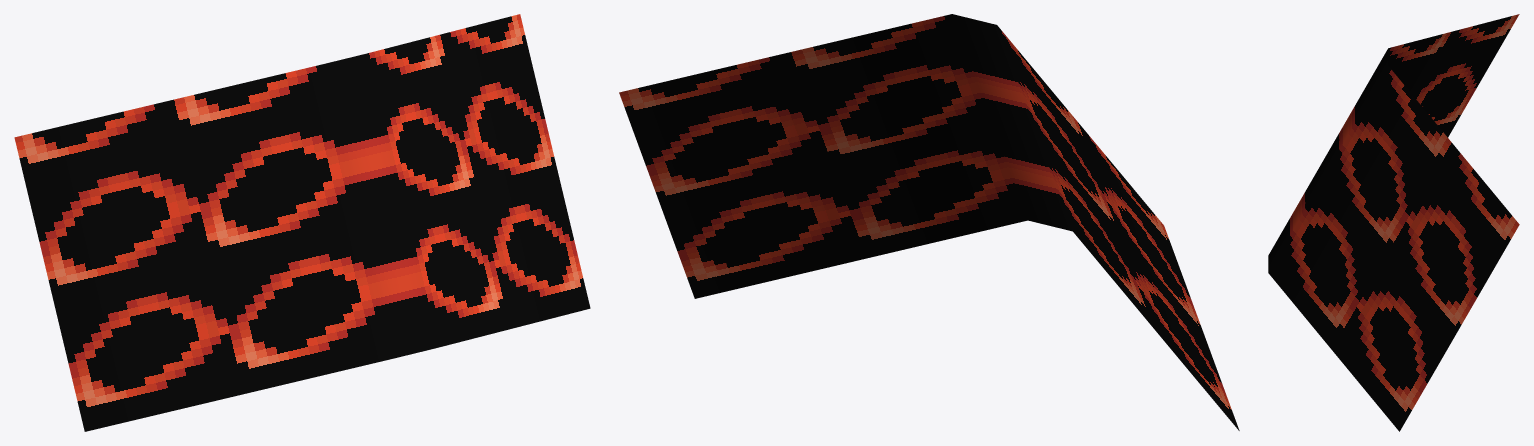
Rendered from 5779head101_c.gltf.
3 renders of one model, left to right at view 1: azimuth 30°, elevation 25°; view 2: azimuth 150°, elevation 25°; view 3: azimuth 270°, elevation 25°, orthographic. The views are drawn at different scales.
Parts seen in each view (by area): view 1: 5779head101_c; view 2: 5779head101_c; view 3: 5779head101_c.
Boxes of the visible parts, x1,y1,x2,y2 form: 5779head101_c: (14,14,590,431); 5779head101_c: (619,14,1239,430); 5779head101_c: (1268,14,1519,431).
Bounding box in the file's own units: 0.6523 × 0.3896 × 0.3291.
1 material, 1 textured.
